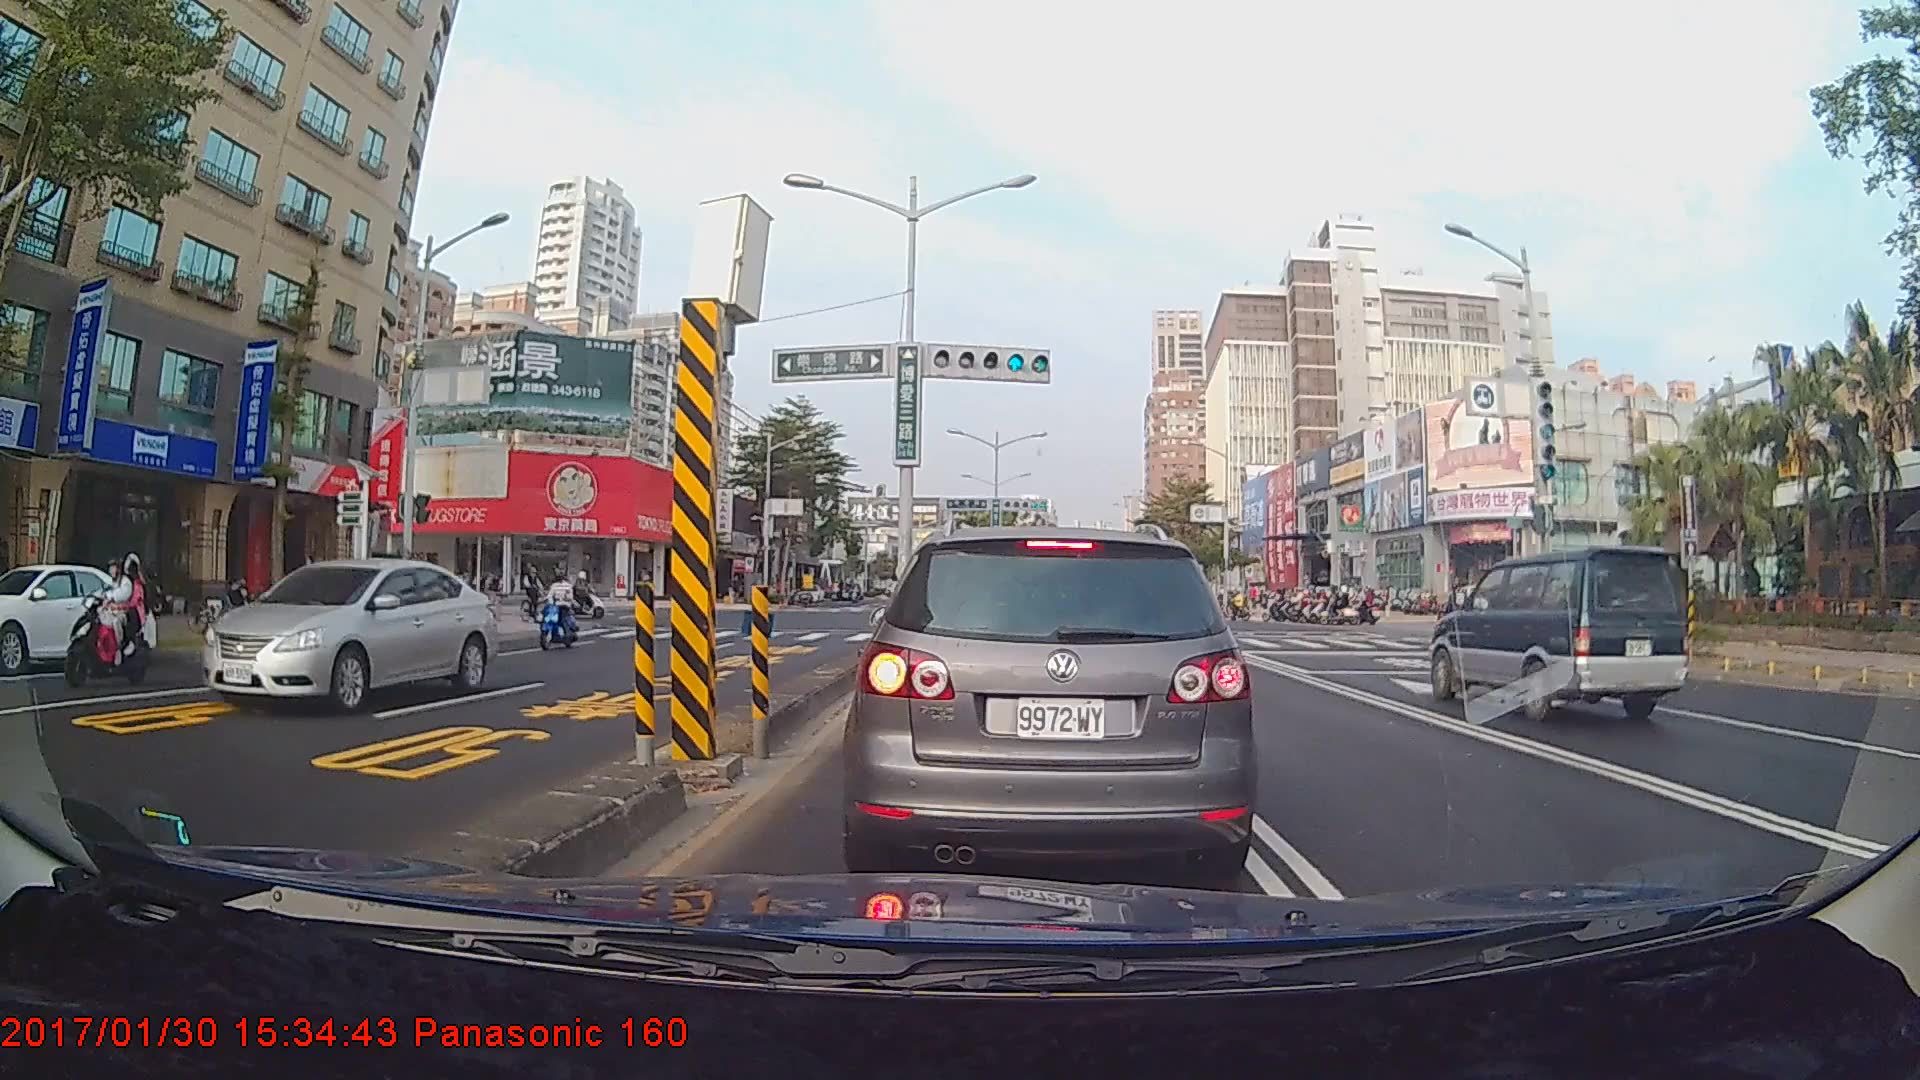rider: (60, 553, 154, 691), (536, 563, 588, 653), (1436, 582, 1473, 646)
vehicle: (851, 522, 1249, 884), (1426, 544, 1691, 723), (196, 559, 506, 709), (0, 561, 157, 671)
